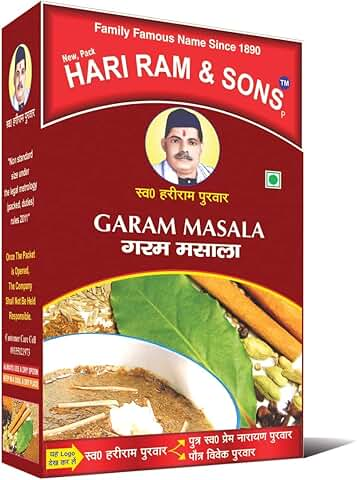Garamasala: (2, 7, 318, 480)
